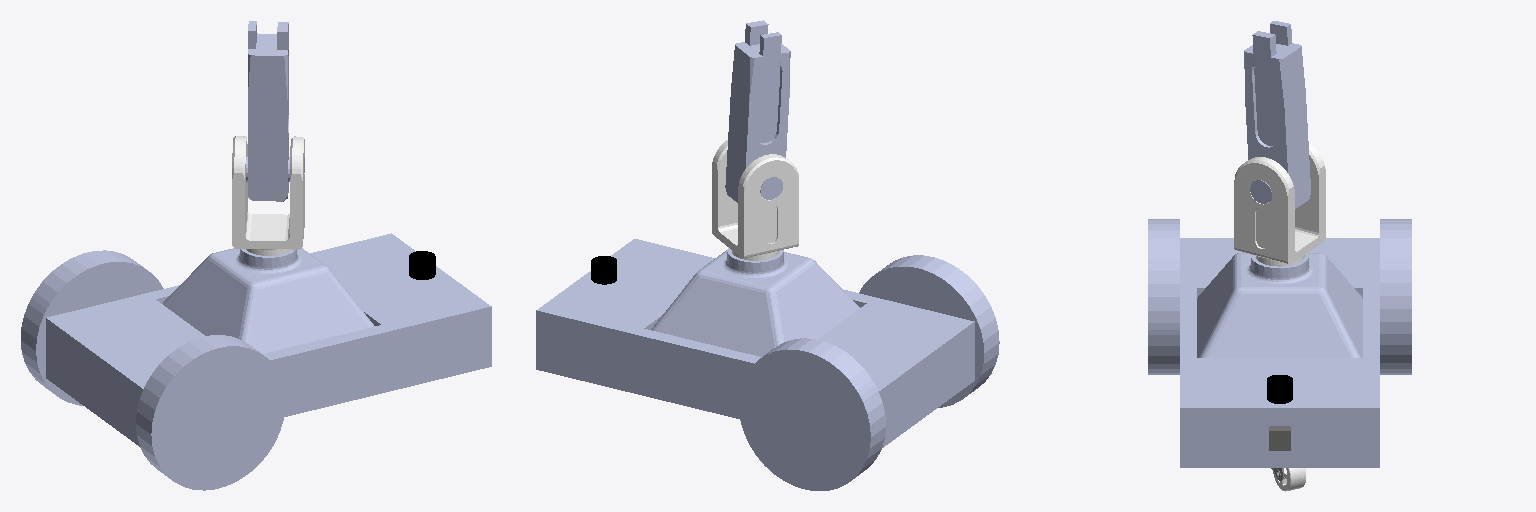
URDF robot description (car_fix_wheels):
<?xml version="1.0" encoding="utf-8"?>
<!-- This URDF was automatically created by SolidWorks to URDF Exporter! Originally created by [author] ([email redacted]) 
     Commit Version: 1.6.0-4-g7f85cfe  Build Version: 1.6.7995.38578
     For more information, please see http://wiki.ros.org/sw_urdf_exporter -->
<robot
  name="car_fix_wheels">
  <!-- <link name="world"/>
  <joint name="base_joint" type="fixed">
    <parent link="world"/>
    <child link="base_link"/>
    <origin rpy="0 0 0" xyz="0.0 0.0 0.17"/>
  </joint> -->
  <material name="gray">
    <color rgba="0.5 0.5 0.5 1.0"/>
  </material>
  <link
    name="base_link">
    <inertial>
      <origin
        xyz="0.00703460169417443 -1.90802063382289E-06 -0.00523072040334664"
        rpy="0 0 0" />
      <mass
        value="2" />
      <inertia
        ixx="1.19644424497777"
        ixy="-4.94231058876372E-10"
        ixz="-0.00760814181478402"
        iyy="4.11177635643324"
        iyz="1.04347758047462E-16"
        izz="5.03703438092778" />
    </inertial>
    <visual>
      <origin
        xyz="0 0 0"
        rpy="0 0 0" />
      <geometry>
        <mesh
          filename="package://car_fix_wheels/meshes/base_link.STL" />
      </geometry>
      <material
        name="">
        <color
          rgba="0.792156862745098 0.819607843137255 0.933333333333333 1" />
      </material>
    </visual>
    <collision>
      <origin
        xyz="0 0 0"
        rpy="0 0 0" />
      <geometry>
        <mesh
          filename="package://car_fix_wheels/meshes/base_link.STL" />
      </geometry>
    </collision>
  </link>
  <link
    name="link_1">
    <inertial>
      <origin
        xyz="1.11022302462516E-16 0.11647007944399 -2.77555756156289E-17"
        rpy="0 0 0" />
      <mass
        value="0.1" />
      <inertia
        ixx="0.0221939275547437"
        ixy="-8.99391945456366E-15"
        ixz="-1.73472347597681E-18"
        iyy="0.0117312495828615"
        iyz="-2.31813505111025E-19"
        izz="0.0181381446533186" />
    </inertial>
    <visual>
      <origin
        xyz="0 0 0"
        rpy="0 0 0" />
      <geometry>
        <mesh
          filename="package://car_fix_wheels/meshes/link_1.STL" />
      </geometry>
      <material
        name="">
        <color
          rgba="1 1 1 1" />
      </material>
    </visual>
    <collision>
      <origin
        xyz="0 0 0"
        rpy="0 0 0" />
      <geometry>
        <mesh
          filename="package://car_fix_wheels/meshes/link_1.STL" />
      </geometry>
    </collision>
  </link>
  <joint
    name="joint_1"
    type="revolute">
    <origin
      xyz="0 0 0.2"
      rpy="1.5707963267949 0 1.00897491790746" />
    <parent
      link="base_link" />
    <child
      link="link_1" />
    <axis
      xyz="0 1 0" />
    <limit
      lower="-3.14"
      upper="3.14"
      effort="300"
      velocity="3" />
  </joint>
  <link
    name="link_2">
    <inertial>
      <origin
        xyz="-5.33451061102141E-12 0.132502782788624 0.000356704762693366"
        rpy="0 0 0" />
      <mass
        value="0.1" />
      <inertia
        ixx="0.0487123203278302"
        ixy="-4.51222135285263E-13"
        ixz="-1.84210285913977E-14"
        iyy="0.00601145501077518"
        iyz="-6.68877031380326E-05"
        izz="0.0490592428788894" />
    </inertial>
    <visual>
      <origin
        xyz="0 0 0"
        rpy="0 0 0" />
      <geometry>
        <mesh
          filename="package://car_fix_wheels/meshes/link_2.STL" />
      </geometry>
      <material
        name="">
        <color
          rgba="0.792156862745098 0.819607843137255 0.933333333333333 1" />
      </material>
    </visual>
    <collision>
      <origin
        xyz="0 0 0"
        rpy="0 0 0" />
      <geometry>
        <mesh
          filename="package://car_fix_wheels/meshes/link_2.STL" />
      </geometry>
    </collision>
  </link>
  <joint
    name="joint_2"
    type="revolute">
    <origin
      xyz="0 0.205 0"
      rpy="0 0 0.0590472178971879" />
    <parent
      link="link_1" />
    <child
      link="link_2" />
    <axis
      xyz="0 0 1" />
    <limit
      lower="-2"
      upper="2"
      effort="200"
      velocity="3" />
  </joint>
  <link
    name="left_link_car">
    <inertial>
      <origin
        xyz="0 -0.0436842105263158 -6.93889390390723E-18"
        rpy="0 0 0" />
      <mass
        value="2" />
      <inertia
        ixx="0.0620059302577679"
        ixy="-1.0101680263708E-18"
        ixz="2.87299458492871E-18"
        iyy="0.10348003684366"
        iyz="-2.25475308254853E-18"
        izz="0.0620059302577679" />
    </inertial>
    <visual>
      <origin
        xyz="0 0 0"
        rpy="0 0 0" />
      <geometry>
        <mesh
          filename="package://car_fix_wheels/meshes/left_link_car.STL" />
      </geometry>
      <material
        name="">
        <color
          rgba="0.792156862745098 0.819607843137255 0.933333333333333 1" />
      </material>
    </visual>
    <collision>
      <origin
        xyz="0 0 0"
        rpy="0 0 0" />
      <geometry>
        <mesh
          filename="package://car_fix_wheels/meshes/left_link_car.STL" />
      </geometry>
    </collision>
  </link>
  <joint
    name="left_joint_car"
    type="continuous">
    <origin
      xyz="-0.300453997850607 0.294997459621556 -0.025"
      rpy="0 0 0" />
    <parent
      link="base_link" />
    <child
      link="left_link_car" />
    <axis
      xyz="0 1 0" />
    <limit
      effort="150"
      velocity="2" />
  </joint>
  <link
    name="right_link_car">
    <inertial>
      <origin
        xyz="0 0.0436842105263159 -6.93889390390723E-18"
        rpy="0 0 0" />
      <mass
        value="2" />
      <inertia
        ixx="0.0620059302577679"
        ixy="-2.73033766169638E-21"
        ixz="1.00605687834278E-33"
        iyy="0.10348003684366"
        iyz="-4.98679721566001E-18"
        izz="0.0620059302577679" />
    </inertial>
    <visual>
      <origin
        xyz="0 0 0"
        rpy="0 0 0" />
      <geometry>
        <mesh
          filename="package://car_fix_wheels/meshes/right_link_car.STL" />
      </geometry>
      <material
        name="">
        <color
          rgba="0.792156862745098 0.819607843137255 0.933333333333333 1" />
      </material>
    </visual>
    <collision>
      <origin
        xyz="0 0 0"
        rpy="0 0 0" />
      <geometry>
        <mesh
          filename="package://car_fix_wheels/meshes/right_link_car.STL" />
      </geometry>
    </collision>
  </link>
  <joint
    name="right_joint_car"
    type="continuous">
    <origin
      xyz="-0.300453997850607 -0.295002540378444 -0.025"
      rpy="0 0 0" />
    <parent
      link="base_link" />
    <child
      link="right_link_car" />
    <axis
      xyz="0 1 0" />
    <limit
      effort="150"
      velocity="2" />
  </joint>
  <link
    name="castor_link">
    <inertial>
      <origin
        xyz="0.00335948404407965 0.00189761350337025 -0.0155756588970051"
        rpy="0 0 0" />
      <mass
        value="1" />
      <inertia
        ixx="0.00231070236013653"
        ixy="-6.66279822450278E-06"
        ixz="5.31586564293953E-05"
        iyy="0.00231955231220187"
        iyz="2.84854037865837E-05"
        izz="0.00428998878470102" />
    </inertial>
    <visual>
      <origin
        xyz="0 0 0"
        rpy="0 0 0" />
      <geometry>
        <mesh
          filename="package://car_fix_wheels/meshes/castor_link.STL" />
      </geometry>
      <material
        name="">
        <color
          rgba="0.63921568627451 0.666666666666667 0.67843137254902 1" />
      </material>
    </visual>
    <collision>
      <origin
        xyz="0 0 0"
        rpy="0 0 0" />
      <geometry>
        <mesh
          filename="package://car_fix_wheels/meshes/castor_link.STL" />
      </geometry>
    </collision>
  </link>
  <joint
    name="castor_joint"
    type="continuous">
    <origin
      xyz="0.30757 0 -0.085"
      rpy="0 0 0" />
    <parent
      link="base_link" />
    <child
      link="castor_link" />
    <axis
      xyz="0 0 -1" />
    <limit
      lower="0"
      upper="0"
      effort="10"
      velocity="10" />
  </joint>
  <link
    name="castor_wheel_link">
    <inertial>
      <origin
        xyz="4.06328387603239E-09 -1.06080838557787E-11 -7.58418688961982E-09"
        rpy="0 0 0" />
      <mass
        value="1" />
      <inertia
        ixx="0.000175490456749465"
        ixy="-5.89693206856289E-15"
        ixz="-3.76119809348271E-05"
        iyy="0.00015534184502462"
        iyz="-1.25031914035428E-14"
        izz="0.000225553188836567" />
    </inertial>
    <visual>
      <origin
        xyz="0 0 0"
        rpy="0 0 0" />
      <geometry>
        <mesh
          filename="package://car_fix_wheels/meshes/castor_wheel_link.STL" />
      </geometry>
      <material
        name="">
        <color
          rgba="1 1 1 1" />
      </material>
    </visual>
    <collision>
      <origin
        xyz="0 0 0"
        rpy="0 0 0" />
      <geometry>
        <mesh
          filename="package://car_fix_wheels/meshes/castor_wheel_link.STL" />
      </geometry>
    </collision>
  </link>
  <joint
    name="castor_wheel_joint"
    type="continuous">
    <origin
      xyz="0.039706 0.02127 -0.06888"
      rpy="-1.5708 0 0" />
    <parent
      link="castor_link" />
    <child
      link="castor_wheel_link" />
    <axis
      xyz="-0.47221 0 0.88149" />
    <limit
      lower="0"
      upper="0"
      effort="10"
      velocity="10" />
    <dynamics
      damping="0.1"
      friction="0.1" />
  </joint>
    <!-- LiDAR Sensor -->
  <link name="lidar_link">
    <visual>
      <geometry>
        <cylinder length="0.05" radius="0.03"/>
      </geometry>
      <material name="black">
        <color rgba="0.0 0.0 0.0 1.0"/>
      </material>
    </visual>
    <collision>
      <geometry>
        <cylinder length="0.05" radius="0.03"/>
      </geometry>
    </collision>
    <inertial>
      <mass value="0.1"/>
      <origin xyz="0 0 0"/>
      <inertia ixx="0.001" ixy="0.0" ixz="0.0" iyy="0.001" iyz="0.0" izz="0.001"/>
    </inertial>
  </link>

  <joint name="lidar_joint" type="fixed">
    <parent link="base_link"/>
    <child link="lidar_link"/>
    <origin xyz="0.4 0 0.07" rpy="0 0 0"/>
  </joint>

  <!-- Camera -->
  <link name="camera_link">
    <collision>
      <origin xyz="-0.05 0 -0.01" rpy="0 0 0"/>
      <geometry>
    <box size="0.05 0.05 0.05"/>
      </geometry>
    </collision>

    <visual>
      <origin xyz="-0.05 0 -0.01" rpy="0 0 0"/>
      <geometry>
    <box size="0.05 0.05 0.05"/>
      </geometry>
      <material name="gray"/>
    </visual>

    <inertial>
      <mass value="1e-5" />
      <origin xyz="0 0 0" rpy="0 0 0"/>
      <inertia ixx="1e-6" ixy="0" ixz="0" iyy="1e-6" iyz="0" izz="1e-6" />
    </inertial>
  </link>
  <joint name="camera_joint" type="fixed">
    <axis xyz="0 1 0" />
    <origin xyz="0.5 0 -0.01" rpy="0 0 0"/>
    <parent link="base_link"/>
    <child link="camera_link"/>
  </joint>
  <transmission name="arm_1_joint_transmission">
    <type>transmission_interface/SimpleTransmission</type>
    <joint name="joint_1">
      <hardwareInterface>hardware_interface/PositionJointInterface</hardwareInterface>
    </joint>
    <actuator name="link1">
      <mechanicalReduction>1.0</mechanicalReduction>
    </actuator>
  </transmission>

  <transmission name="arm_2_joint_transmission">
    <type>transmission_interface/SimpleTransmission</type>
    <joint name="joint_2">
      <hardwareInterface>hardware_interface/PositionJointInterface</hardwareInterface>
    </joint>
    <actuator name="link2">
      <mechanicalReduction>1.0</mechanicalReduction>
    </actuator>
  </transmission>

  <link name="imu_link">
    <inertial>
      <origin xyz="0 0 0" rpy="0 0 0" />
      <mass value="0.01" />
      <inertia ixx="1e-6" ixy="0" ixz="0" iyy="1e-6" iyz="0" izz="1e-6" />
    </inertial>
    <visual>
      <origin xyz="0 0 0" rpy="0 0 0" />
      <geometry>
        <box size="0.01 0.01 0.01"/>
      </geometry>
      <material name="gray"/>
    </visual>
  </link>

  <joint name="imu_joint" type="fixed">
    <parent link="base_link"/>
    <child link="imu_link"/>
    <origin xyz="0 0 0.1" rpy="0 0 0"/>
  </joint>
  

<gazebo>
  <plugin name="differential_drive_controller" filename="libgazebo_ros_diff_drive.so">

    <!-- Plugin update rate in Hz -->
    <updateRate>10</updateRate>

    <!-- Name of left joint, defaults to `left_joint` -->
    <leftJoint>left_joint_car</leftJoint>

    <!-- Name of right joint, defaults to `right_joint` -->
    <rightJoint>right_joint_car</rightJoint>

    <!-- The distance from the center of one wheel to the other, in meters, defaults to 0.34 m -->
    <wheelSeparation>0.5380</wheelSeparation>

    <!-- Diameter of the wheels, in meters, defaults to 0.15 m -->
    <wheelDiameter>0.2410</wheelDiameter>

    <!-- Wheel acceleration, in rad/s^2, defaults to 0.0 rad/s^2 -->
    <wheelAcceleration>1.0</wheelAcceleration>

    <!-- Maximum torque which the wheels can produce, in Nm, defaults to 5 Nm -->
    <wheelTorque>20</wheelTorque>

    <!-- Topic to receive geometry_msgs/Twist message commands, defaults to `cmd_vel` -->
    <commandTopic>cmd_vel</commandTopic>

    <!-- Topic to publish nav_msgs/Odometry messages, defaults to `odom` -->
    <odometryTopic>odom</odometryTopic>

    <!-- Odometry frame, defaults to `odom` -->
    <odometryFrame>odom</odometryFrame>

    <!-- Robot frame to calculate odometry from, defaults to `base_footprint` -->
    <robotBaseFrame>base_link</robotBaseFrame>

    <!-- Odometry source, 0 for ENCODER, 1 for WORLD, defaults to WORLD -->
    <odometrySource>1</odometrySource>

    <!-- Set to true to publish transforms for the wheel links, defaults to false -->
    <publishWheelTF>false</publishWheelTF>

    <!-- Set to true to publish transforms for the odometry, defaults to true -->
    <publishOdom>true</publishOdom>

    <!-- Set to true to publish sensor_msgs/JointState on /joint_states for the wheel joints, defaults to false -->
    <publishWheelJointState>true</publishWheelJointState>

    <!-- Set to true to swap right and left wheels, defaults to true -->
    <legacyMode>false</legacyMode>
  </plugin>
</gazebo>
<!-- hokuyo -->
  <gazebo reference="lidar_link">
    <sensor type="ray" name="head_hokuyo_sensor">
      <pose>0 0 0 0 0 0</pose>
      <visualize>true</visualize>
      <update_rate>30</update_rate>
      <ray>
        <scan>
          <horizontal>
            <samples>720</samples>
            <resolution>1</resolution>
            <min_angle>-1.57</min_angle>
            <max_angle>1.57</max_angle>
          </horizontal>
        </scan>
        <range>
          <min>0.10</min>
          <max>20.0</max>
          <resolution>0.01</resolution>
        </range>
        <noise>
          <type>gaussian</type>
          <!-- Noise parameters based on published spec for Hokuyo laser
                achieving "+-30mm" accuracy at range < 10m.  A mean of 0.0m and
                stddev of 0.01m will put 99.7% of samples within 0.03m of the true
                reading. -->
          <mean>0.0</mean>
          <stddev>0.01</stddev>
        </noise>
      </ray>
      <plugin name="gazebo_ros_head_hokuyo_controller" filename="libgazebo_ros_laser.so">
        <topicName>/scan</topicName>
        <frameName>lidar_link</frameName>
      </plugin>
    </sensor>
  </gazebo>
  <!-- camera -->
<gazebo reference="camera_link">
  <material>Gazebo/Red</material>

  <sensor name="camera" type="camera">
      <pose> 0 0 0 0 0 0 </pose>
      <visualize>true</visualize>
      <update_rate>10</update_rate>
      <camera>
          <horizontal_fov>1.089</horizontal_fov>
          <image>
              <format>R8G8B8</format>
              <width>640</width>
              <height>480</height>
          </image>
          <clip>
              <near>0.05</near>
              <far>8.0</far>
          </clip>
      </camera>
      <plugin name="camera_controller" filename="libgazebo_ros_camera.so">
          <frame_name>camera_link_optical</frame_name>
      </plugin>
  </sensor>
</gazebo>
  
<!-- <gazebo>
  <plugin name="gps_plugin" filename="libhector_gazebo_ros_gps.so">
    <alwaysOn>true</alwaysOn>
    <updateRate>10.0</updateRate>
    <bodyName>base_link</bodyName>
    <topicName>/gps/fix</topicName>
    <velocityTopicName>/gps/fix_velocity</velocityTopicName>
    <referenceLatitude>21.028511</referenceLatitude>
    <referenceLongitude>105.804817</referenceLongitude>
    <referenceAltitude>10.0</referenceAltitude>
    <drift>0.001 0.001 0.001</drift>
    <gaussianNoise>0.05 0.05 0.05</gaussianNoise>
  </plugin>
</gazebo> -->


  <!-- IMU plugin -->
  <gazebo reference="imu_link">
    <gravity>true</gravity>
    <sensor name="imu_sensor" type="imu">
      <always_on>true</always_on>
      <update_rate>10</update_rate>
      <visualize>true</visualize>
      <topic>__default_topic__</topic>
      <plugin filename="libgazebo_ros_imu_sensor.so" name="imu_plugin">
        <topicName>imu</topicName>
        <bodyName>imu_link</bodyName>
        <updateRateHZ>10.0</updateRateHZ>
        <frameName>imu_link</frameName>
        <initialOrientationAsReference>false</initialOrientationAsReference>
      </plugin>
      <pose>0 0 0 0 0 0</pose>
    </sensor>
  </gazebo>

<gazebo>
  <plugin name="gazebo_ros_control" filename="libgazebo_ros_control.so">
    <robotNamespace>/</robotNamespace>
    <robotSimType>gazebo_ros_control/DefaultRobotHWSim</robotSimType>
    <legacyModeNS>false</legacyModeNS>
    <controlPeriod>0.001</controlPeriod>
  </plugin>
</gazebo>
</robot>

--- What the picture shows (computed from the rendered views, not written in the file) ---
The picture shows the robot from 3 angles, left to right: view 1: azimuth 30°, elevation 25°; view 2: azimuth 150°, elevation 25°; view 3: azimuth 270°, elevation 25°; orthographic projection.
Robot: car_fix_wheels — 10 links, 9 joints (2 revolute, 4 continuous, 3 fixed); root link base_link; default pose: all joints at 0.
Links seen in each view (by area): view 1: base_link, right_link_car, left_link_car, link_2, link_1, lidar_link; view 2: base_link, left_link_car, link_2, link_1, right_link_car, lidar_link; view 3: base_link, link_2, link_1, left_link_car, right_link_car, lidar_link, camera_link, castor_wheel_link.
Link boxes in pixels (left/top/right/bottom): base_link: left=46, top=233, right=491, bottom=446; right_link_car: left=136, top=335, right=285, bottom=490; left_link_car: left=21, top=250, right=163, bottom=405; link_2: left=246, top=21, right=304, bottom=201; link_1: left=232, top=136, right=304, bottom=255; lidar_link: left=409, top=251, right=435, bottom=279; base_link: left=536, top=239, right=974, bottom=447; left_link_car: left=739, top=338, right=885, bottom=490; link_2: left=725, top=20, right=790, bottom=202; link_1: left=712, top=140, right=798, bottom=260; right_link_car: left=859, top=255, right=999, bottom=407; lidar_link: left=591, top=256, right=616, bottom=284; base_link: left=1180, top=238, right=1379, bottom=467; link_2: left=1244, top=21, right=1310, bottom=208; link_1: left=1234, top=143, right=1325, bottom=266; left_link_car: left=1380, top=219, right=1411, bottom=374; right_link_car: left=1148, top=219, right=1179, bottom=374; lidar_link: left=1267, top=375, right=1292, bottom=403; camera_link: left=1269, top=426, right=1290, bottom=450; castor_wheel_link: left=1273, top=468, right=1305, bottom=491.
Bounding box of the posed robot: 0.9505 × 0.59 × 0.9714 m (x, y, z).
Meshes: 7 distinct files referenced, 7 mesh visuals loaded (7 binary STL).
